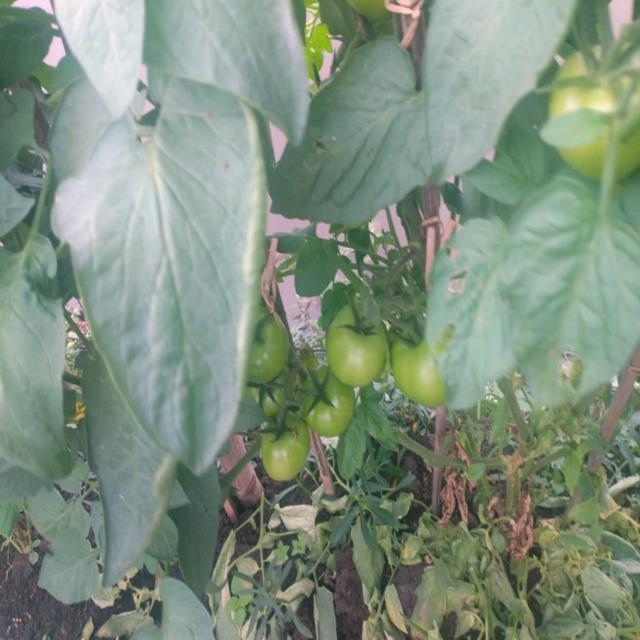tomato: (557, 53, 640, 118), (388, 327, 443, 419), (326, 314, 387, 391), (298, 371, 358, 429), (264, 421, 314, 483), (257, 306, 295, 377), (560, 141, 604, 186), (250, 378, 285, 421)
